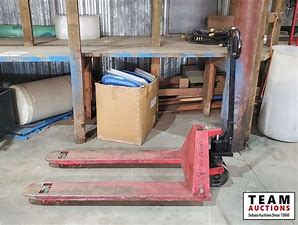Pallet Jack: (20, 26, 242, 207)
